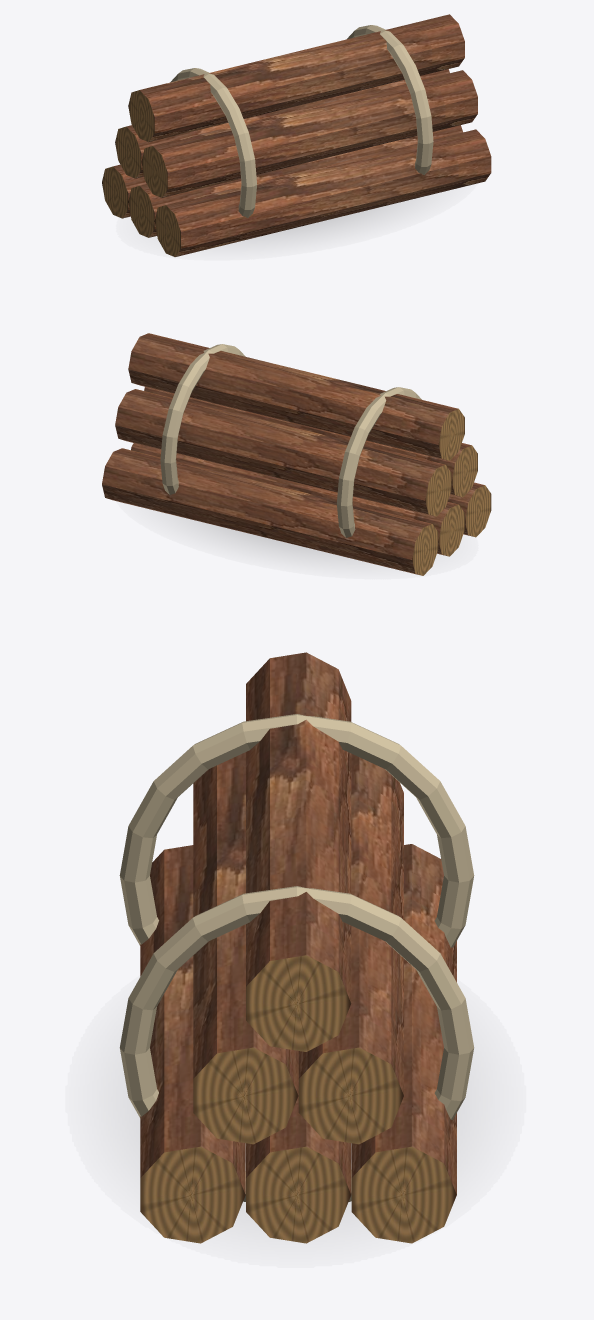
The model's file is firewood.glb.
The picture shows the model from 3 angles, top to bottom: view 1: azimuth 30°, elevation 25°; view 2: azimuth 150°, elevation 25°; view 3: azimuth 270°, elevation 25°; orthographic projection. The views are drawn at different scales.
Visible parts, largest first — view 1: log, log.005, log.003, log.001, wrap, log.004, wrap.001, log.002; view 2: log.002, log.005, log.004, log.001, log.003, wrap, wrap.001, log; view 3: log.005, log.004, log.003, log, log.002, wrap.001, wrap, log.001.
Part boxes in pixels (x1,y1,x2,y2): log: [154, 129, 491, 256]; log.005: [128, 14, 464, 142]; log.003: [141, 70, 477, 197]; log.001: [128, 125, 462, 237]; wrap: [170, 68, 257, 217]; log.004: [115, 69, 449, 178]; wrap.001: [347, 25, 433, 175]; log.002: [102, 164, 146, 218]; log.002: [102, 448, 438, 575]; log.005: [128, 333, 464, 460]; log.004: [115, 389, 451, 516]; log.001: [131, 443, 464, 556]; log.003: [144, 387, 477, 497]; wrap: [336, 387, 421, 537]; wrap.001: [160, 344, 245, 494]; log: [447, 482, 491, 537]; log.005: [246, 652, 351, 1051]; log.004: [298, 753, 403, 1144]; log.003: [193, 752, 298, 1144]; log: [140, 845, 245, 1243]; log.002: [351, 844, 456, 1243]; wrap.001: [119, 886, 474, 1201]; wrap: [119, 714, 474, 947]; log.001: [246, 1096, 351, 1243].
Size of the model in its own units: 1.3 by 0.47 by 0.75.
4 materials, 3 textured.
